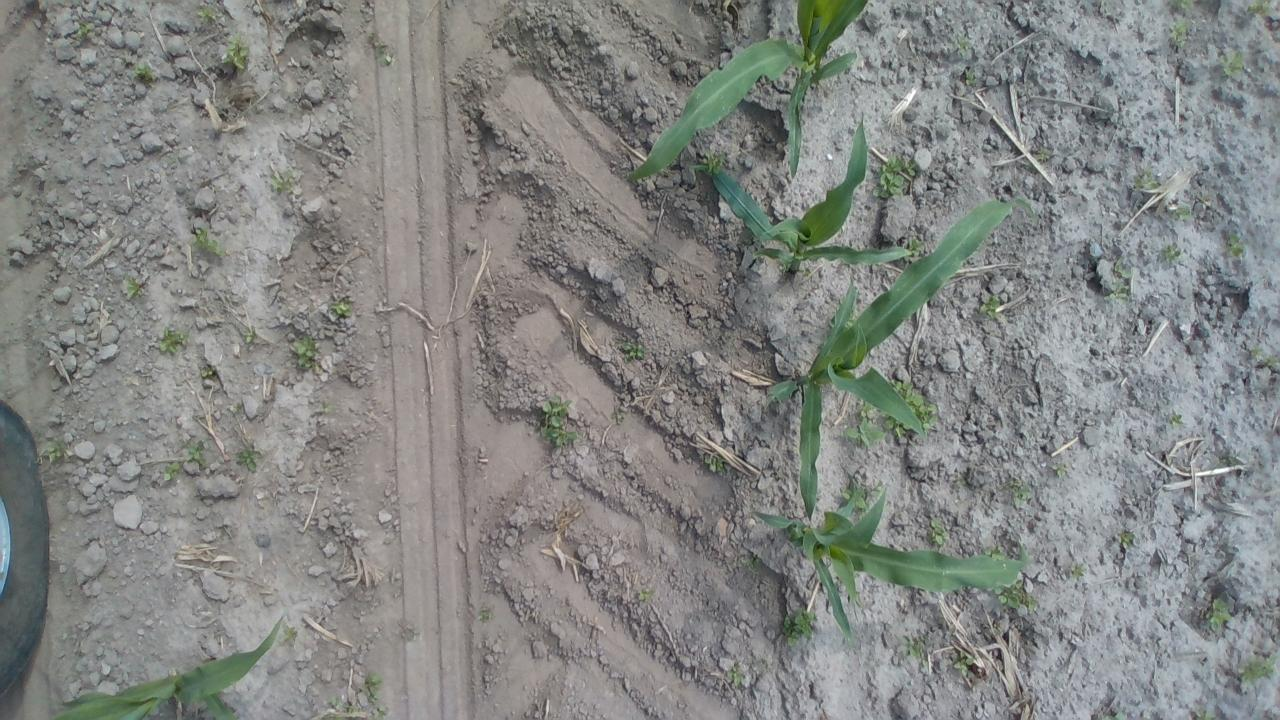Maize: (767, 195, 1038, 526), (754, 478, 1030, 648), (626, 0, 869, 183), (691, 110, 917, 279), (46, 613, 284, 720)
Weeds: (872, 152, 918, 199), (540, 393, 578, 449), (844, 400, 886, 450), (1104, 256, 1136, 304), (781, 608, 818, 648), (992, 579, 1040, 609), (1236, 652, 1278, 684), (120, 54, 158, 88), (288, 334, 320, 374), (220, 32, 250, 70), (192, 224, 226, 257), (898, 633, 928, 666), (270, 164, 303, 194), (1204, 598, 1232, 632), (159, 326, 192, 354), (916, 404, 939, 440), (1007, 476, 1032, 509), (1220, 48, 1248, 77), (894, 380, 924, 407), (1167, 14, 1190, 49), (1248, 345, 1280, 369), (236, 445, 262, 474), (702, 148, 728, 176), (620, 340, 650, 364), (185, 439, 208, 470), (360, 672, 382, 704), (40, 438, 66, 464), (926, 517, 950, 545), (1134, 165, 1160, 190), (842, 488, 868, 512), (978, 294, 1004, 318), (275, 620, 297, 648), (121, 276, 145, 301), (903, 238, 927, 262), (949, 34, 973, 57), (884, 415, 906, 440), (327, 295, 352, 317), (1224, 231, 1244, 258), (952, 650, 974, 673), (740, 556, 764, 577), (1245, 0, 1273, 17), (75, 16, 93, 42), (704, 452, 725, 474), (198, 5, 220, 25), (726, 664, 744, 687), (1168, 204, 1192, 221), (375, 41, 392, 65), (1116, 527, 1136, 547), (983, 544, 1005, 562), (162, 463, 184, 481), (1164, 242, 1182, 262), (1070, 562, 1088, 582), (240, 324, 257, 344), (1032, 146, 1052, 160), (964, 67, 978, 85), (1096, 711, 1123, 720), (1217, 456, 1239, 467), (320, 400, 337, 414), (224, 401, 239, 416), (1170, 0, 1194, 9), (1168, 413, 1184, 426), (626, 172, 642, 185), (872, 479, 884, 496), (1056, 464, 1070, 478), (638, 590, 654, 602), (845, 312, 857, 328), (200, 366, 217, 377), (478, 606, 488, 624), (1198, 710, 1215, 720), (326, 694, 340, 706), (927, 0, 936, 12), (348, 703, 360, 712), (991, 622, 1004, 630), (658, 167, 671, 175), (333, 715, 352, 720)
